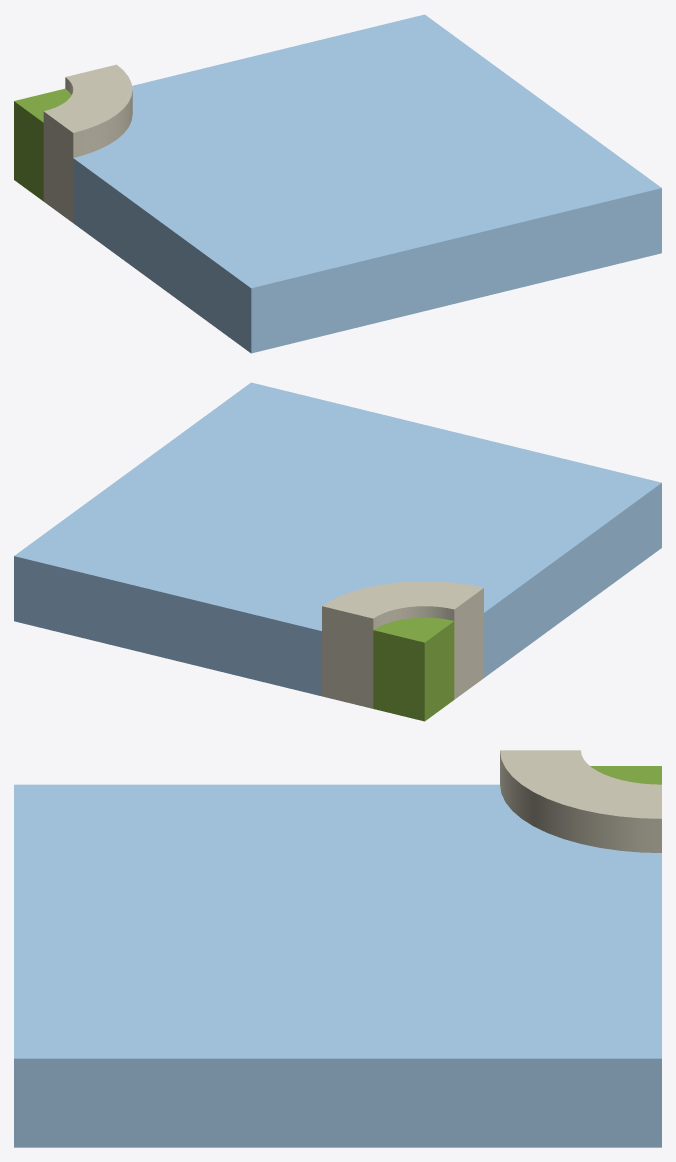
The model's file is tile130.dae.
3 renders of one model, top to bottom at view 1: azimuth 30°, elevation 25°; view 2: azimuth 150°, elevation 25°; view 3: azimuth 270°, elevation 25°, orthographic. The views are drawn at different scales.
Parts seen in each view (by area): view 1: tile130; view 2: tile130; view 3: tile130.
Part boxes in pixels (box(x1,y1,x2,y2)): tile130: box(14, 14, 661, 353); tile130: box(14, 382, 661, 721); tile130: box(14, 750, 661, 1147).
Size of the model in its own units: 1 by 0.21 by 1.
